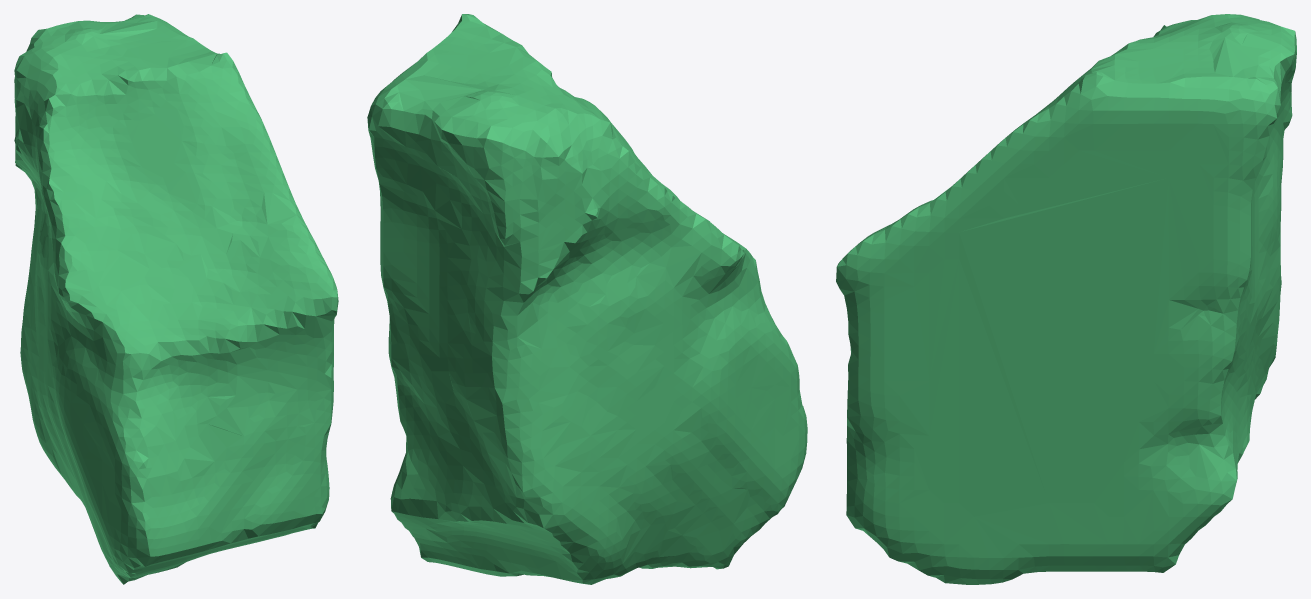
File: Model_10066_LH__Area_32_of_cortex_(A32).obj
3 renders of one model, left to right at view 1: azimuth 30°, elevation 25°; view 2: azimuth 150°, elevation 25°; view 3: azimuth 270°, elevation 25°, orthographic. The views are drawn at different scales.
Bounding box in the file's own units: 1.86 × 3.93 × 3.08.
